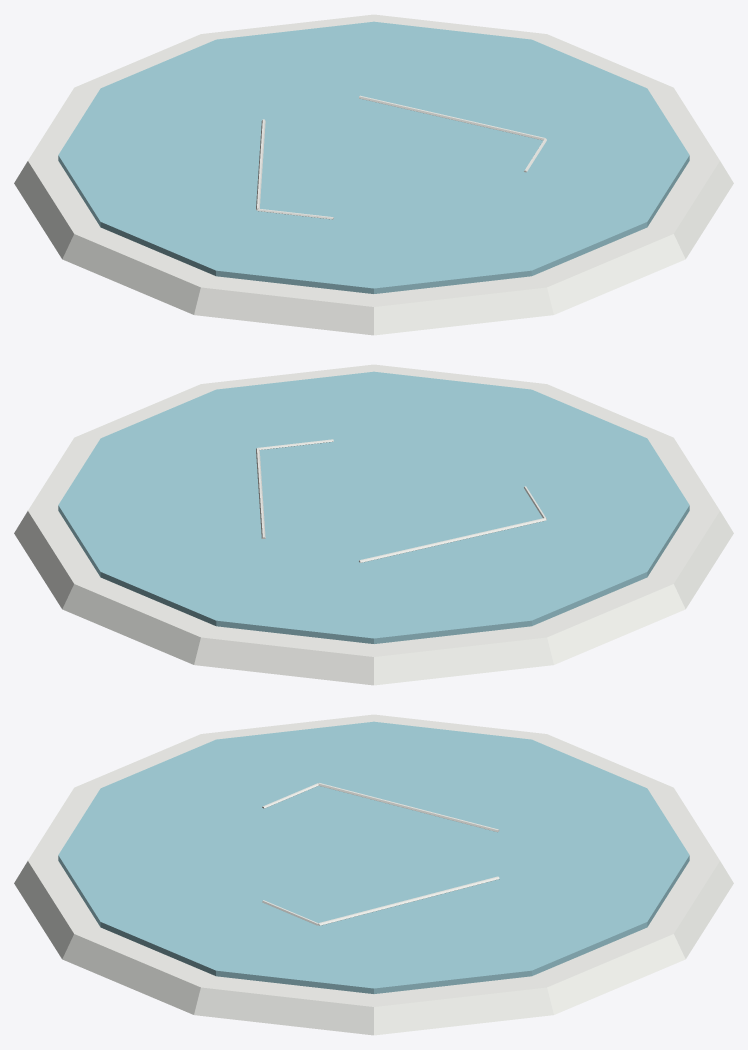
Rendered from winter-hearth-village-frozen-village-pond-3c2c2470__21833.glb.
3 renders of one model, top to bottom at view 1: azimuth 30°, elevation 25°; view 2: azimuth 150°, elevation 25°; view 3: azimuth 270°, elevation 25°, orthographic.
Parts seen in each view (by area): view 1: frozen-village-pond-ice, frozen-village-pond-snow; view 2: frozen-village-pond-ice, frozen-village-pond-snow; view 3: frozen-village-pond-ice, frozen-village-pond-snow.
Part boxes in pixels (x1,y1,x2,y2): frozen-village-pond-ice: [58, 21, 689, 293]; frozen-village-pond-snow: [14, 14, 733, 335]; frozen-village-pond-ice: [58, 371, 689, 643]; frozen-village-pond-snow: [14, 364, 733, 685]; frozen-village-pond-ice: [58, 721, 689, 993]; frozen-village-pond-snow: [14, 714, 733, 1035].
Size of the model in its own units: 5.2 by 0.2393 by 5.2.
